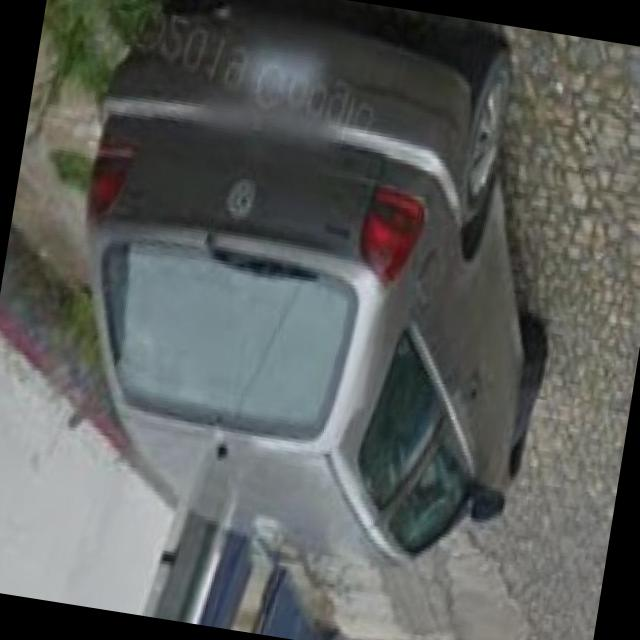car: (30, 0, 599, 585)
